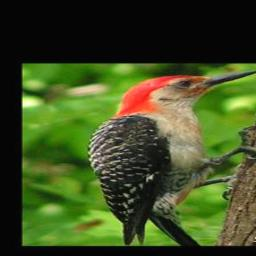Woodpecker: (85, 70, 256, 246)
